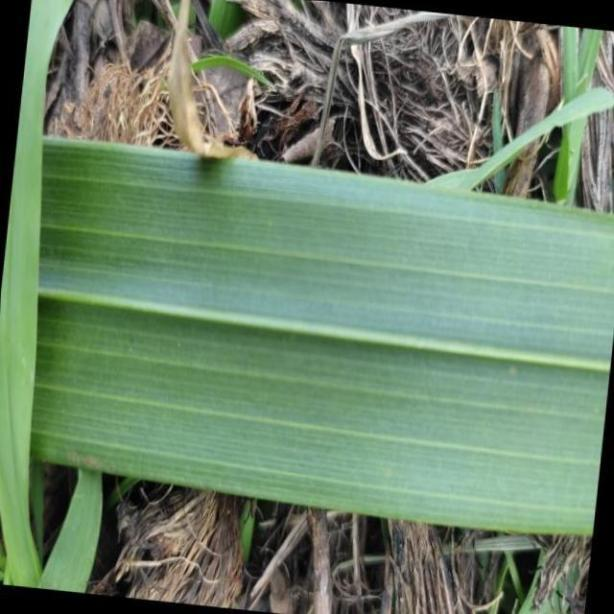Healthy: (3, 136, 614, 536)
